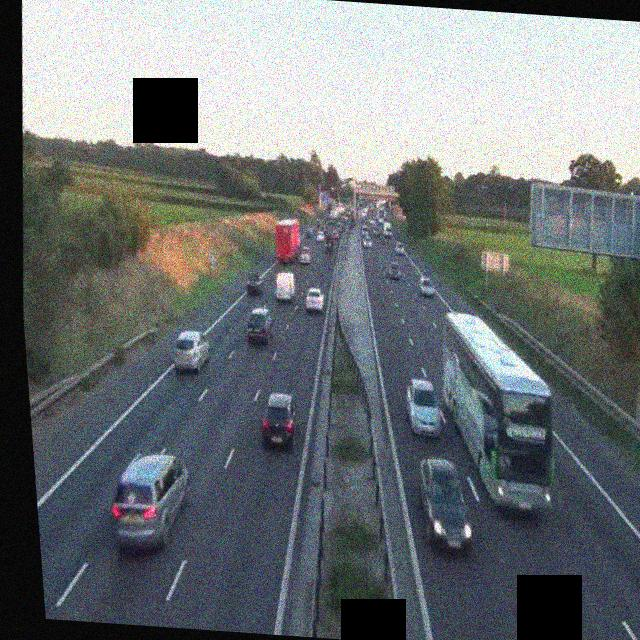car: (105, 448, 196, 552), (412, 458, 477, 553), (402, 376, 445, 436), (257, 391, 302, 448), (170, 329, 212, 373), (243, 304, 277, 346), (272, 270, 297, 301), (303, 286, 325, 312), (244, 272, 265, 294), (416, 275, 435, 297), (386, 260, 402, 281), (297, 248, 312, 264), (318, 238, 332, 254), (323, 238, 335, 251), (394, 240, 405, 254), (361, 236, 372, 248), (309, 227, 319, 240)
truck: (428, 310, 568, 512), (272, 216, 302, 262), (382, 220, 392, 238)
